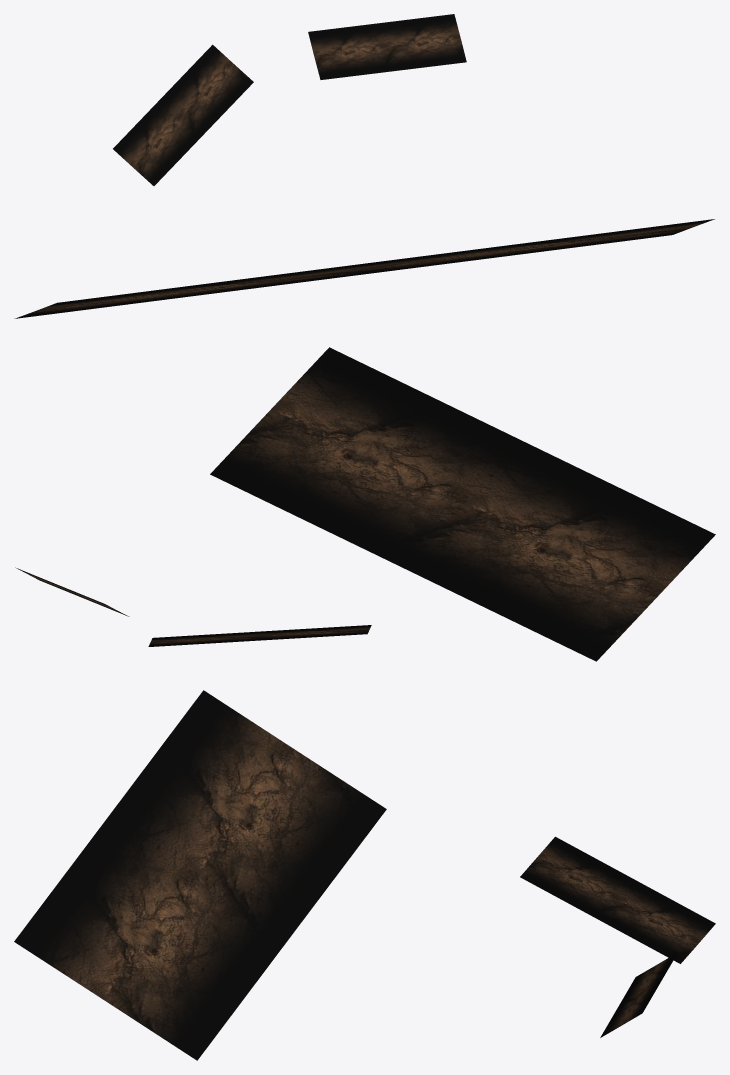
Rendered from rocks_near_gradient_skybox.obj.
3 renders of one model, top to bottom at view 1: azimuth 30°, elevation 25°; view 2: azimuth 150°, elevation 25°; view 3: azimuth 270°, elevation 25°, orthographic. The views are drawn at different scales.
Parts seen in each view (by area): view 1: mat1model0surf1, mat1model0surf0, mat1model0surf2; view 2: mat1model0surf0, mat1model0surf1; view 3: mat1model0surf0, mat1model0surf1, mat1model0surf2.
Boxes of the visible parts, left/top/right/bottom form: mat1model0surf1: left=113, top=44, right=253, bottom=185; mat1model0surf0: left=14, top=219, right=714, bottom=318; mat1model0surf2: left=308, top=14, right=466, bottom=79; mat1model0surf0: left=210, top=347, right=715, bottom=661; mat1model0surf1: left=148, top=625, right=371, bottom=646; mat1model0surf0: left=14, top=690, right=386, bottom=1060; mat1model0surf1: left=520, top=836, right=715, bottom=963; mat1model0surf2: left=600, top=952, right=677, bottom=1037.
Size of the model in its own units: 1925 by 339 by 1922.
